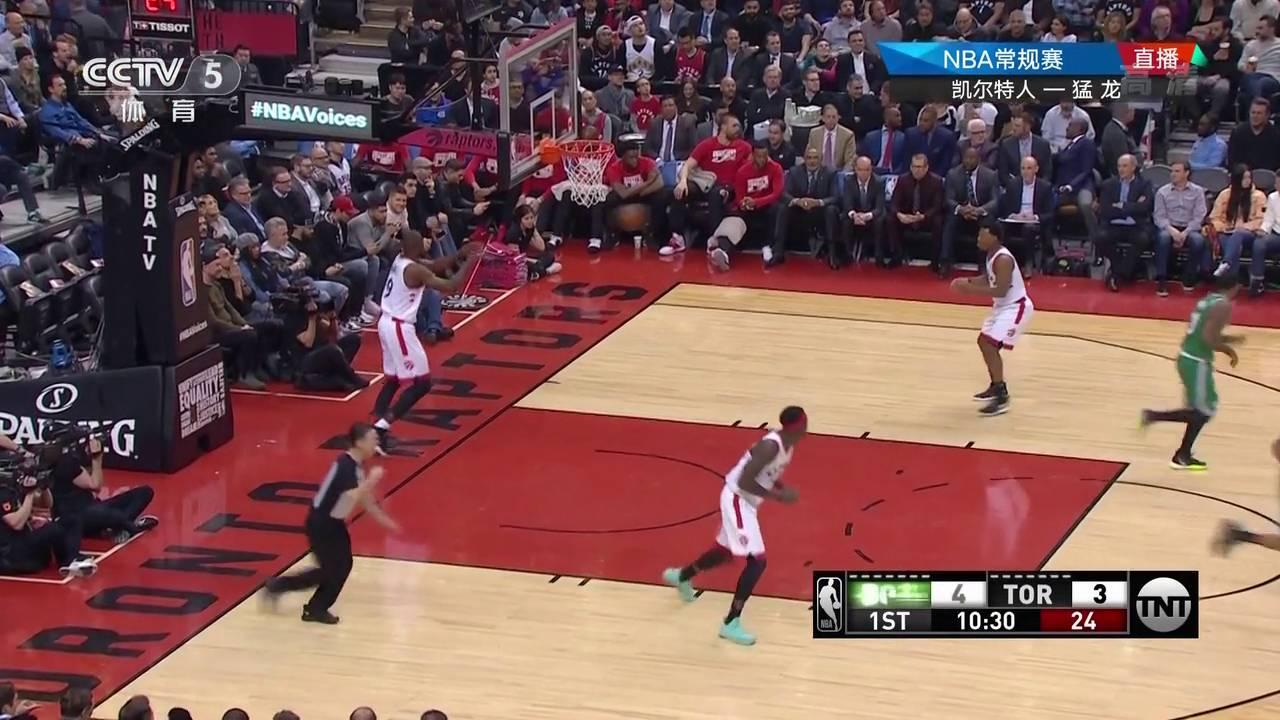basketball: (620, 205, 648, 231)
